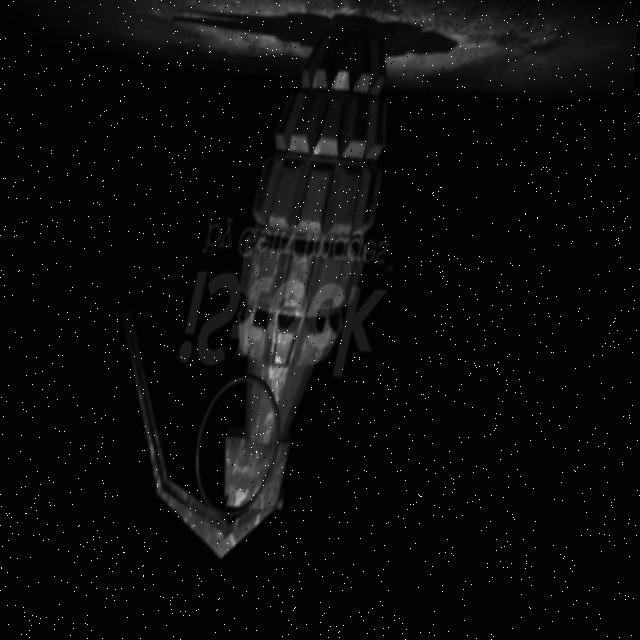grenade: (81, 16, 417, 577)
